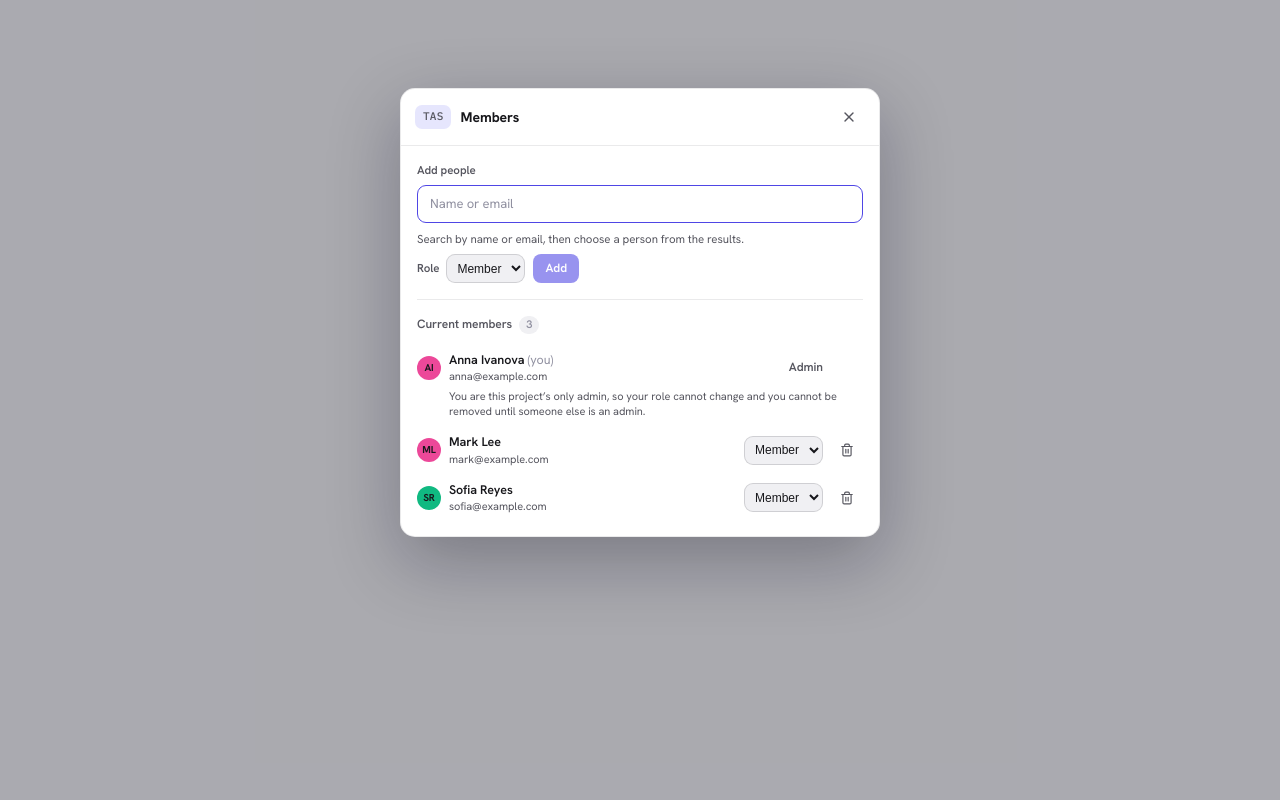
Scenario: ProjectMembersModal › asks for three characters before searching, and sends nothing shorter
Check: the text "Mark Lee" is shown, box left=449, top=433, right=501, bottom=450
In the dropdown labelled "Add people": (640, 204) left=417, top=185, right=863, bottom=223, type " pr "
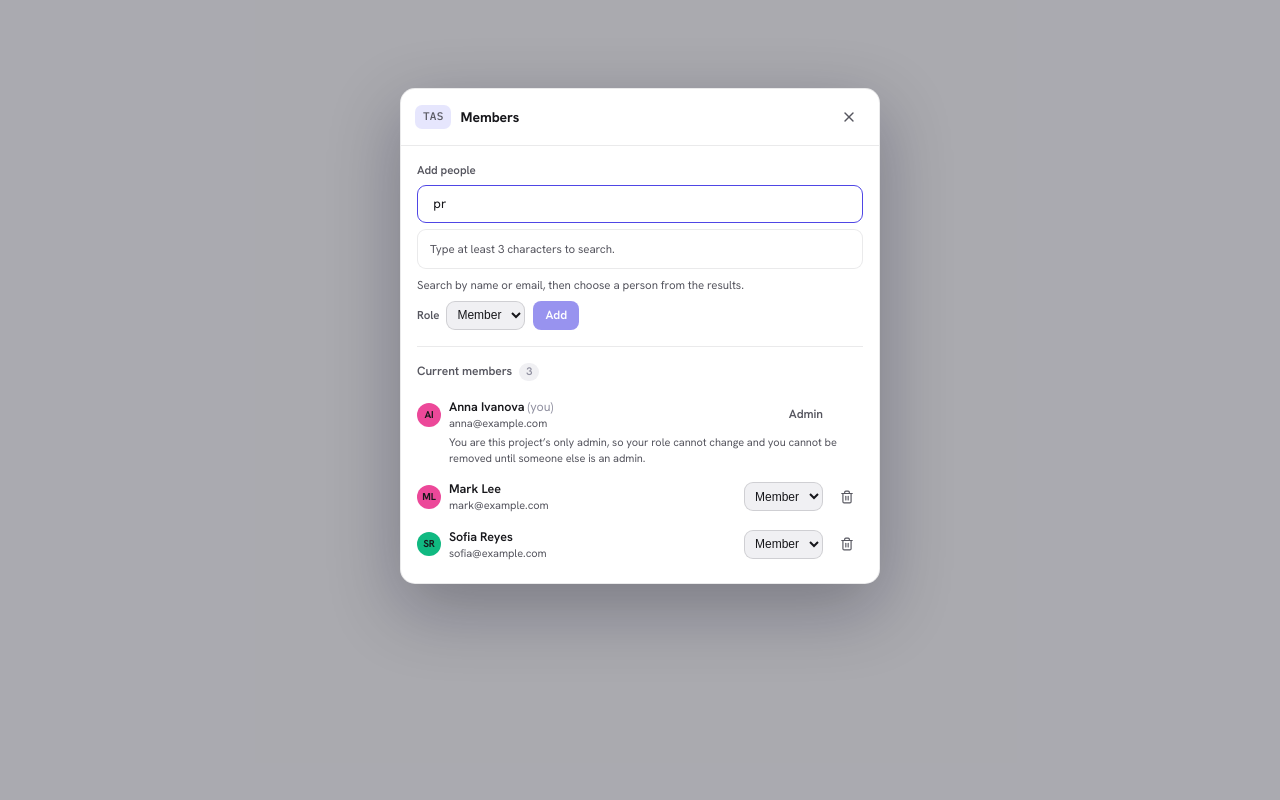
Check: the text "Type at least 3 characters to search." is shown, box left=430, top=241, right=615, bottom=256
